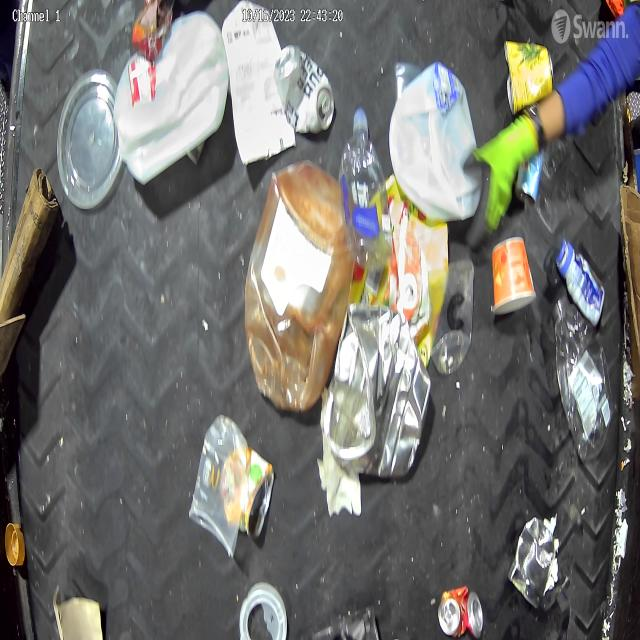can: (325, 301, 432, 478), (273, 46, 334, 134), (507, 516, 554, 609), (506, 40, 556, 115), (240, 446, 276, 540), (438, 585, 483, 640), (515, 170, 543, 204)
milk_jug: (122, 10, 229, 185), (389, 58, 481, 222)
non_white_jug: (244, 160, 356, 412)
plastic_bottle: (554, 292, 612, 458), (339, 106, 386, 278)
